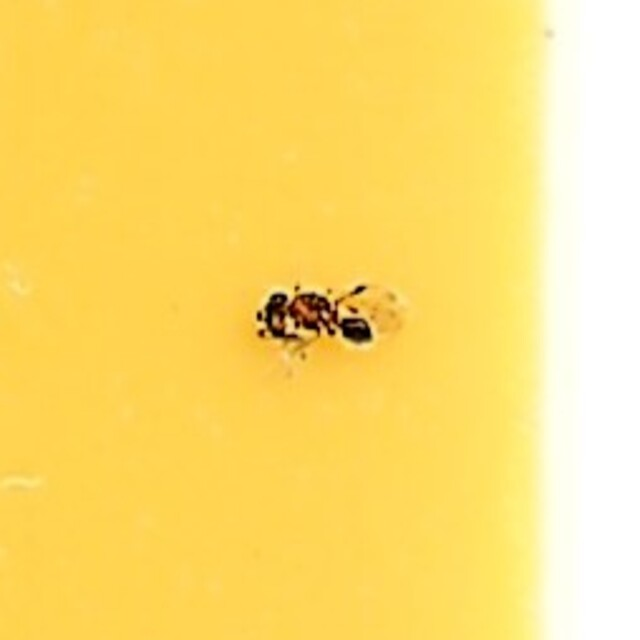Hymenoptera: (252, 268, 388, 372)
